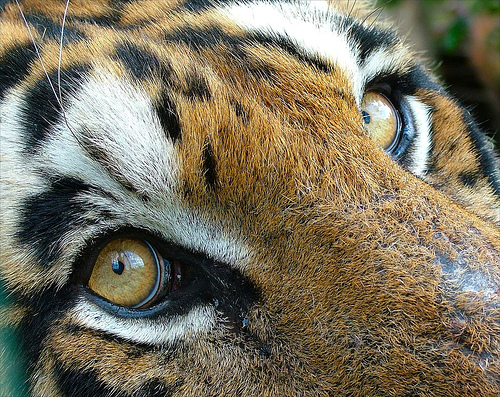Tigre: (6, 15, 491, 379)
